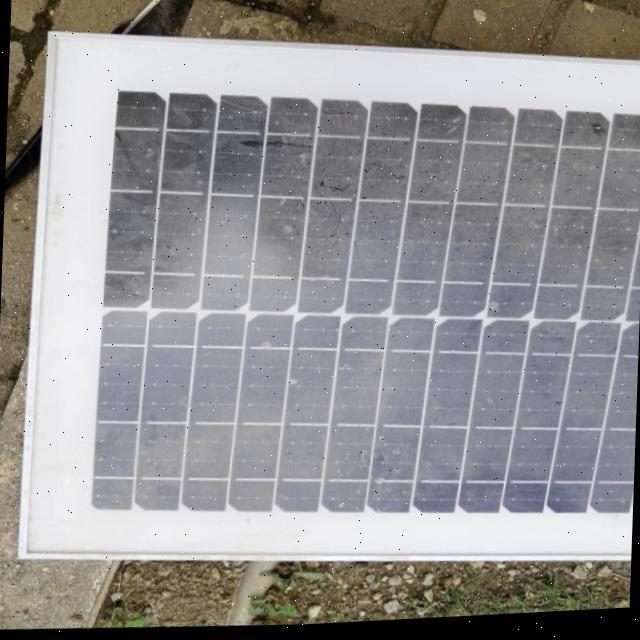Surface Contaminant: (76, 76, 640, 536)
